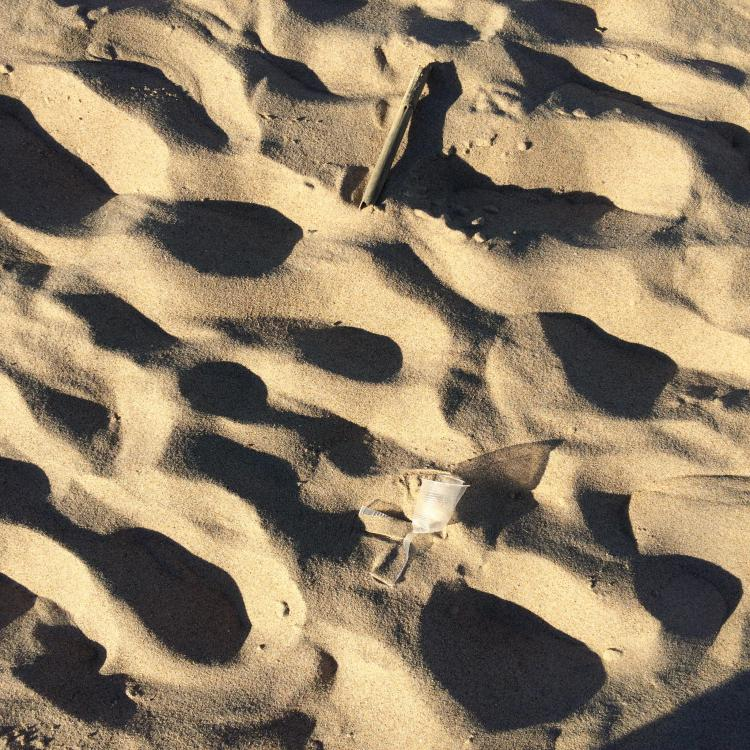Disposable plastic cup: (356, 475, 471, 586)
